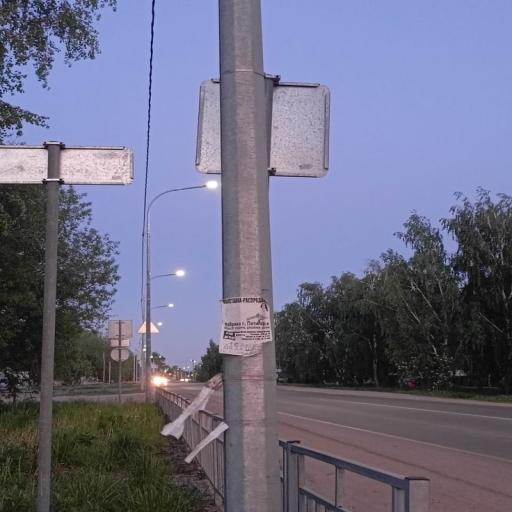elevator: (202, 0, 293, 512)
glass_wall: (169, 383, 512, 512)
